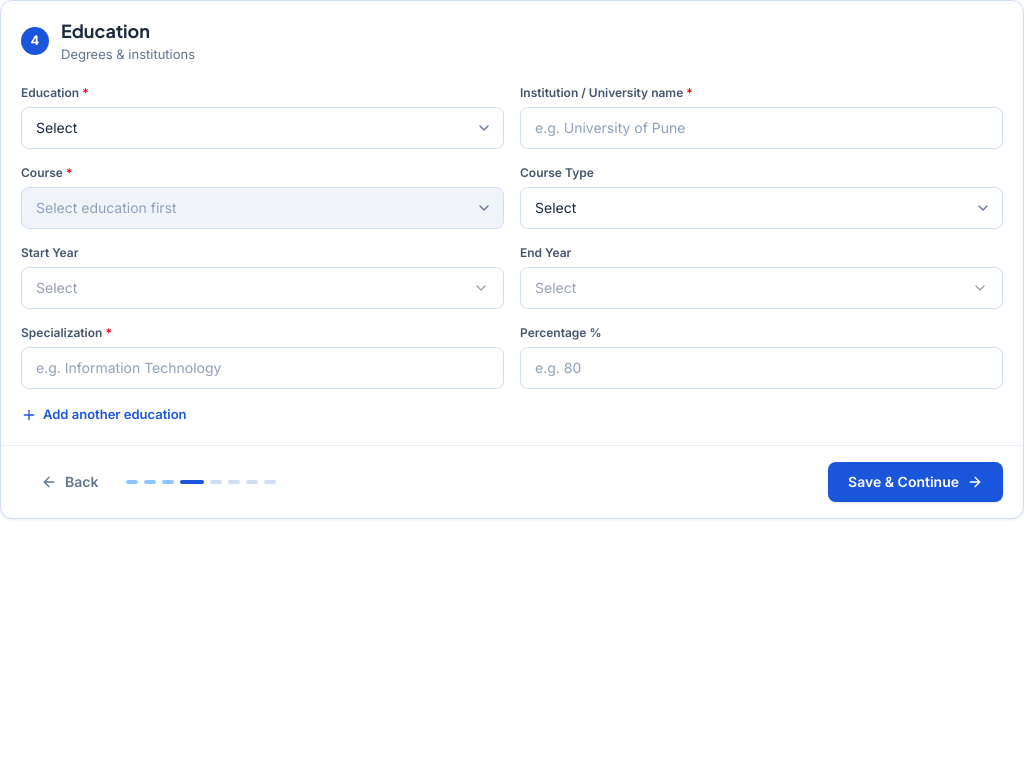
Scenario: EducationStep › rejects a percentage above 100
The width and height of the screenshot is (1024, 768).
Select "B.Tech" in the dropdown labelled "Education *" at (262, 128), box [21, 106, 504, 148]
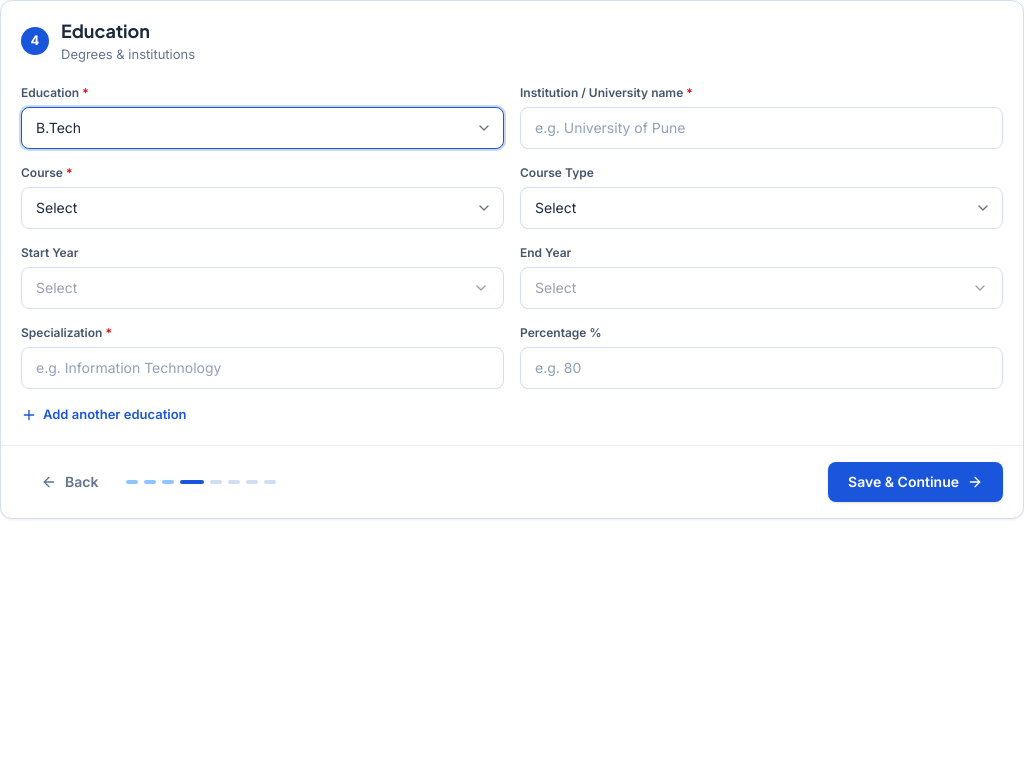
Type "Patna University" into the dropdown labelled "Institution / University name *" at (762, 128), box [520, 106, 1003, 148]
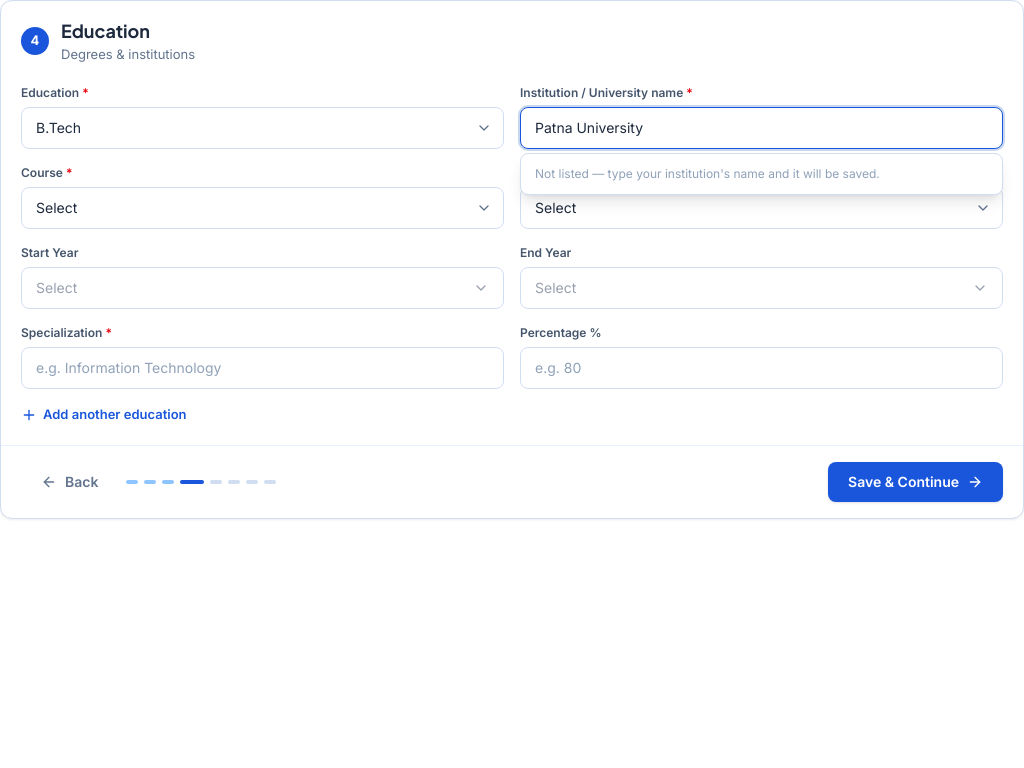
Select "Computer Science and Engineering" in the dropdown labelled "Course *" at (262, 208), box [21, 186, 504, 228]
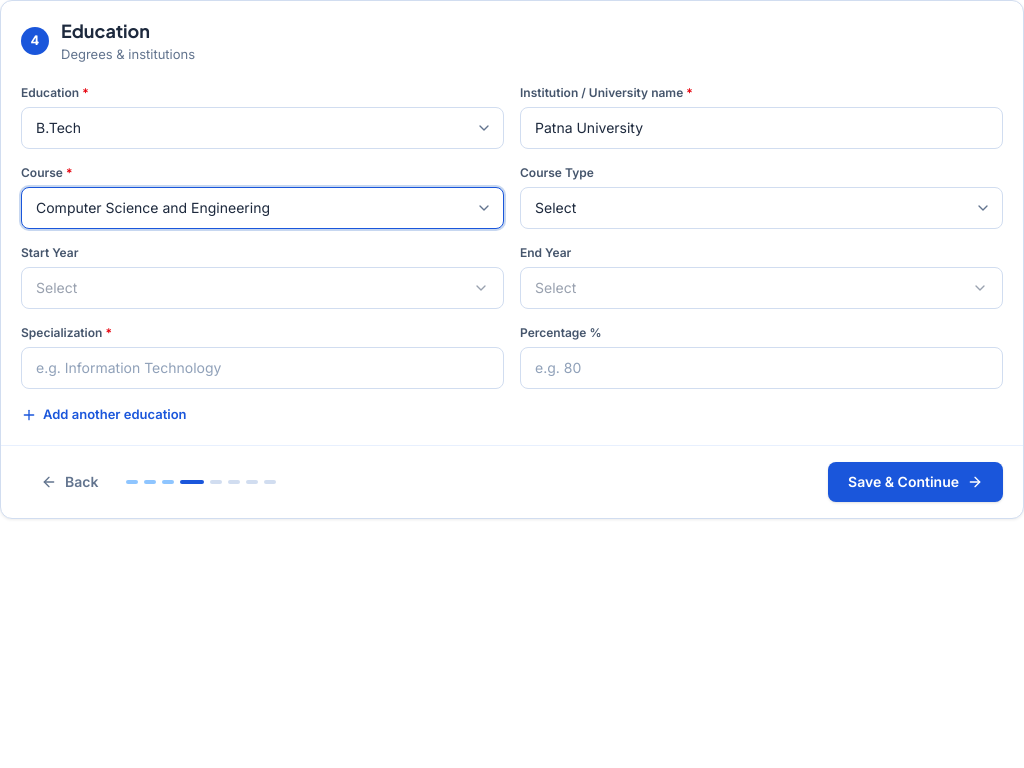
Type "Computer Science" into the field labelled "Specialization *" at (262, 368), box [21, 346, 504, 388]
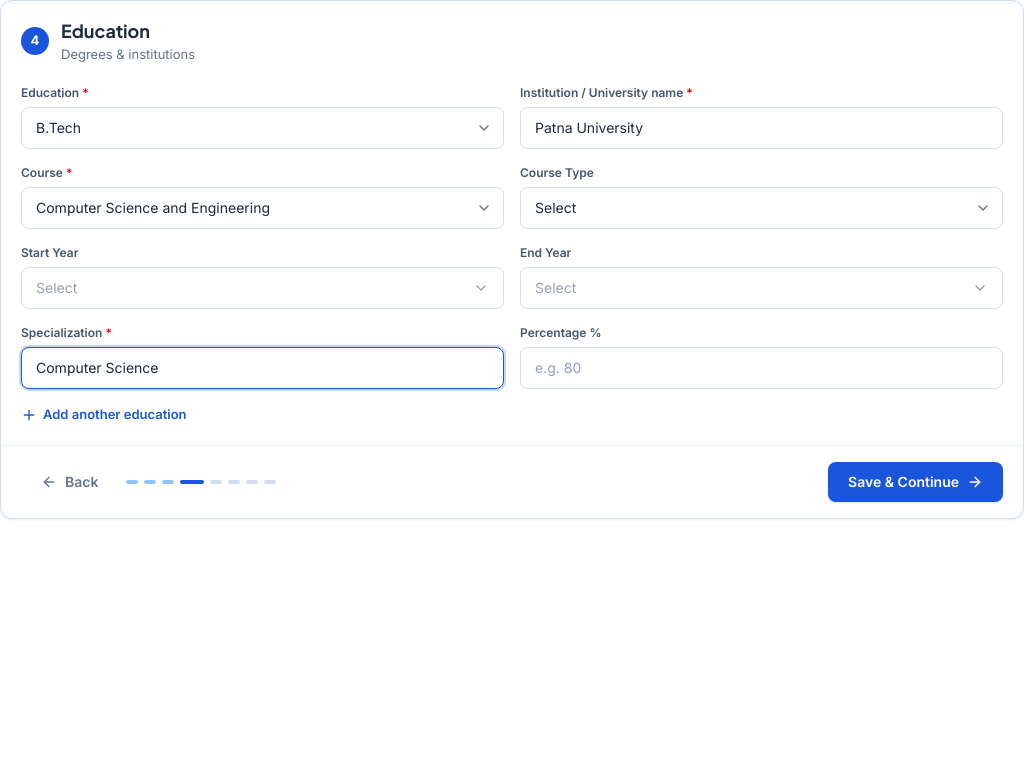
Type "101" into the field labelled "Percentage %" at (762, 368), box [520, 346, 1003, 388]
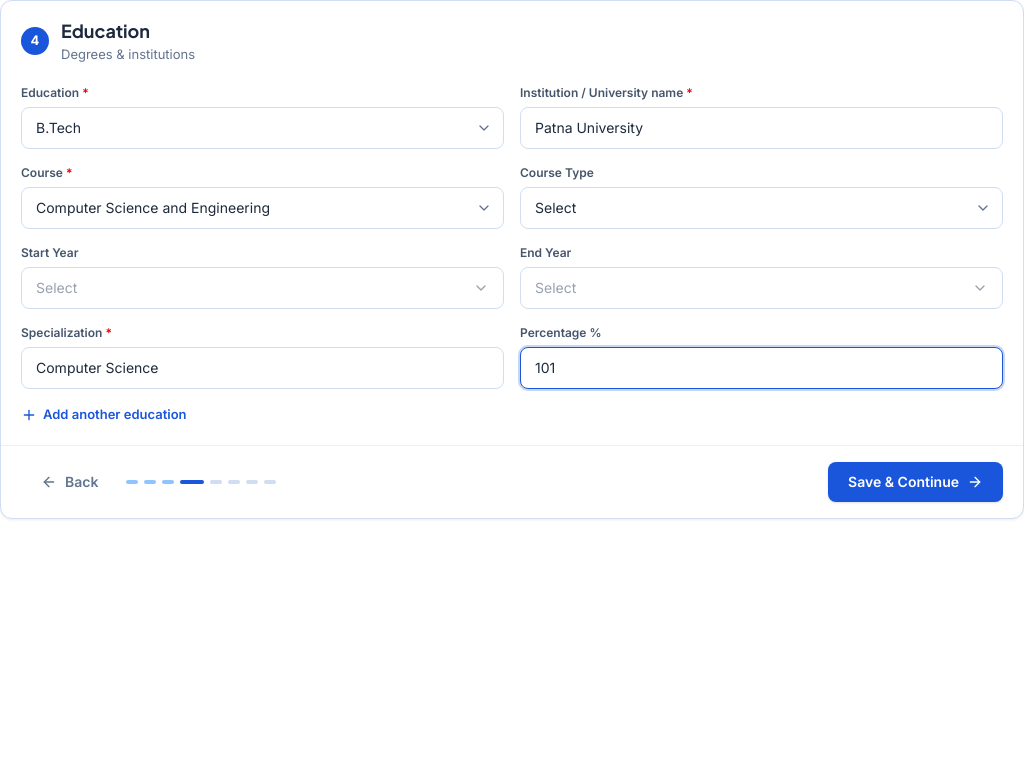
Click the button "Save & Continue" at (916, 482), box [828, 462, 1003, 502]
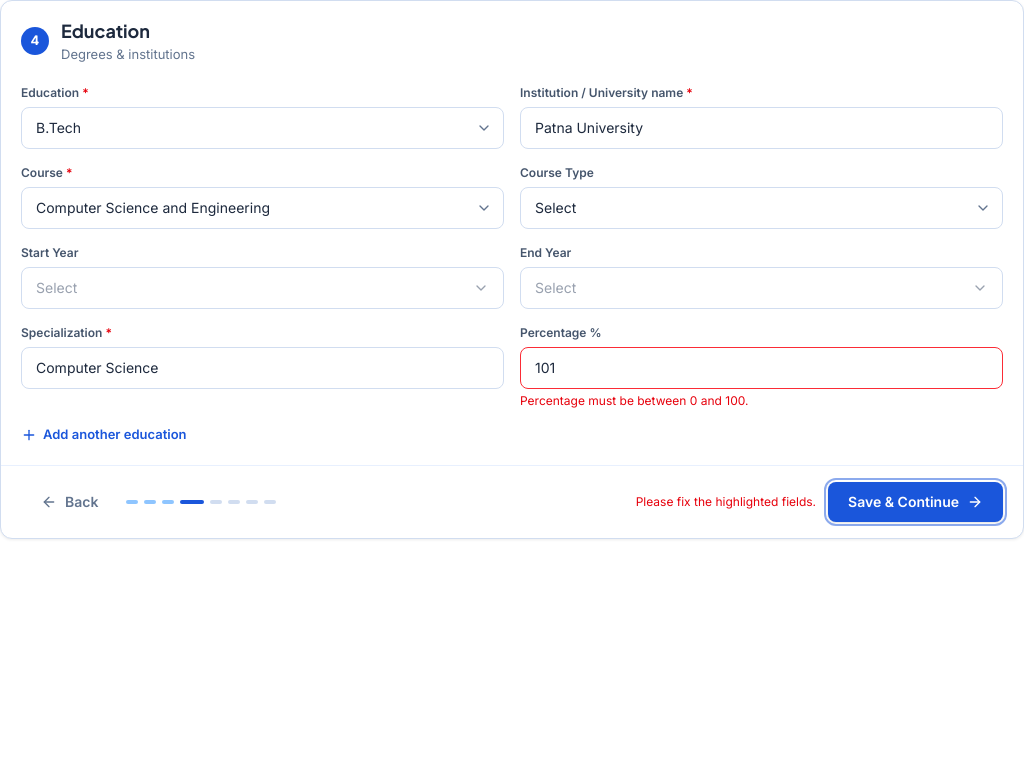
Expected: the text "Percentage must be between 0 and 100." is shown, [520, 392, 748, 408]
